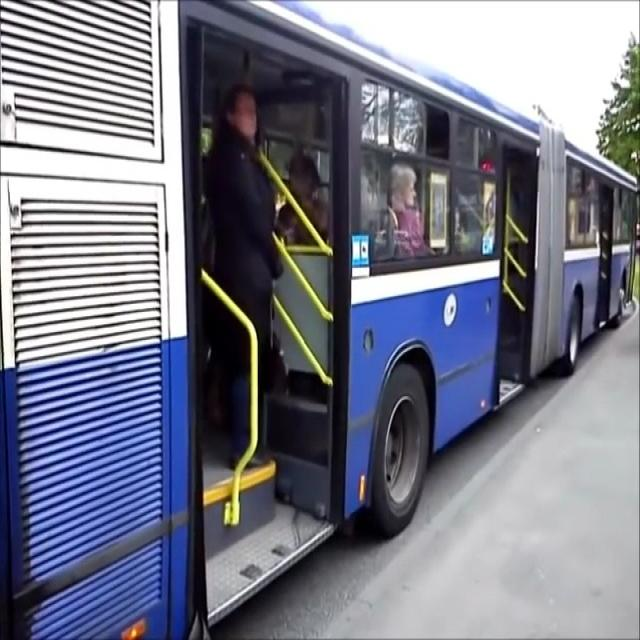bus-door: (181, 2, 347, 586), (504, 134, 545, 410)
